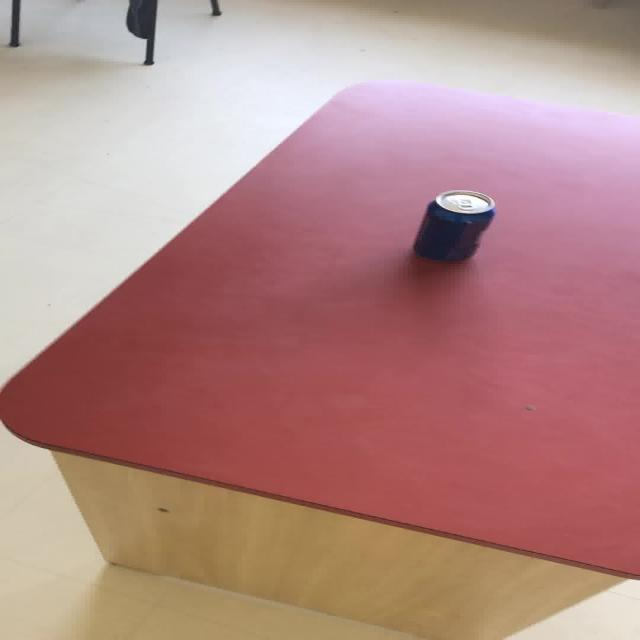tonic: (411, 188, 496, 262)
